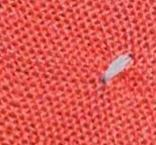hole: (101, 48, 135, 87)
